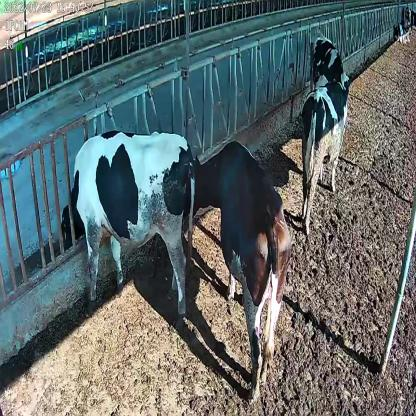cow: (186, 137, 293, 402), (60, 126, 197, 316), (301, 82, 348, 228), (312, 31, 352, 90)
